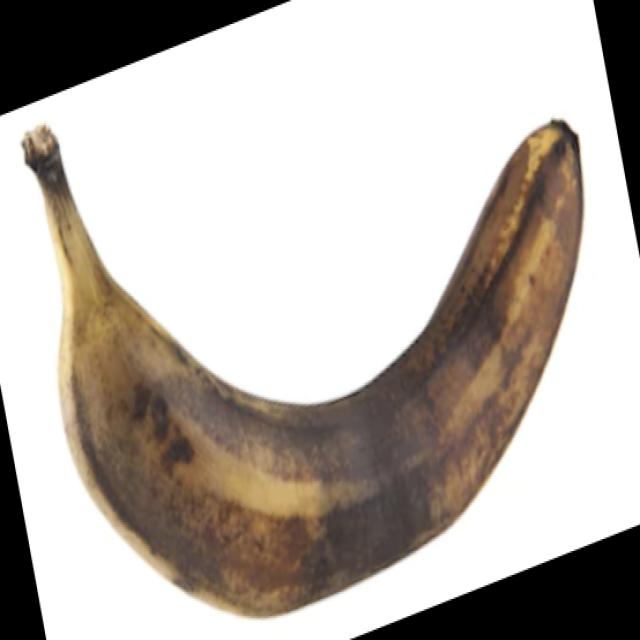Rotten: (23, 118, 583, 618)
